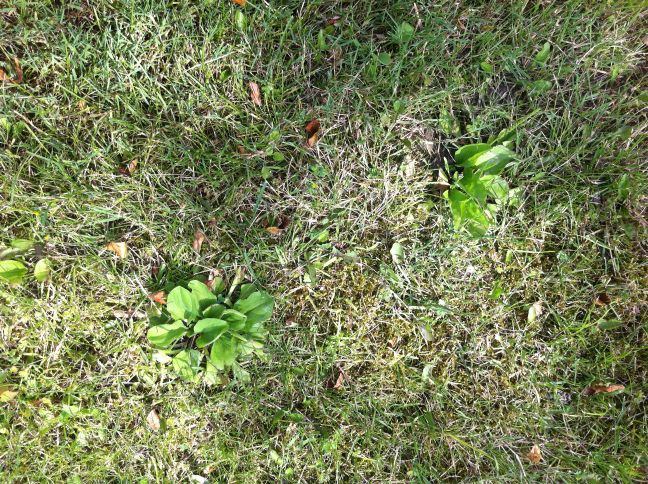weed1: (147, 276, 281, 376), (440, 141, 518, 237)
